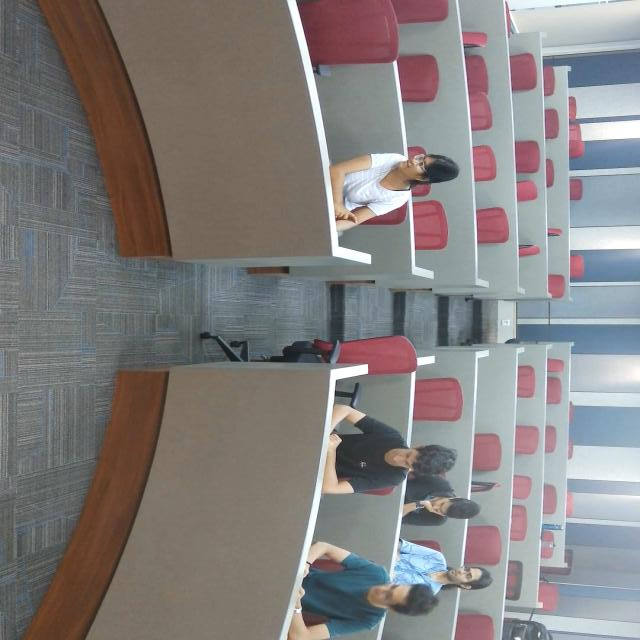cheating: (135, 187, 242, 320), (549, 142, 601, 258)
non-cheating: (418, 182, 498, 325)
